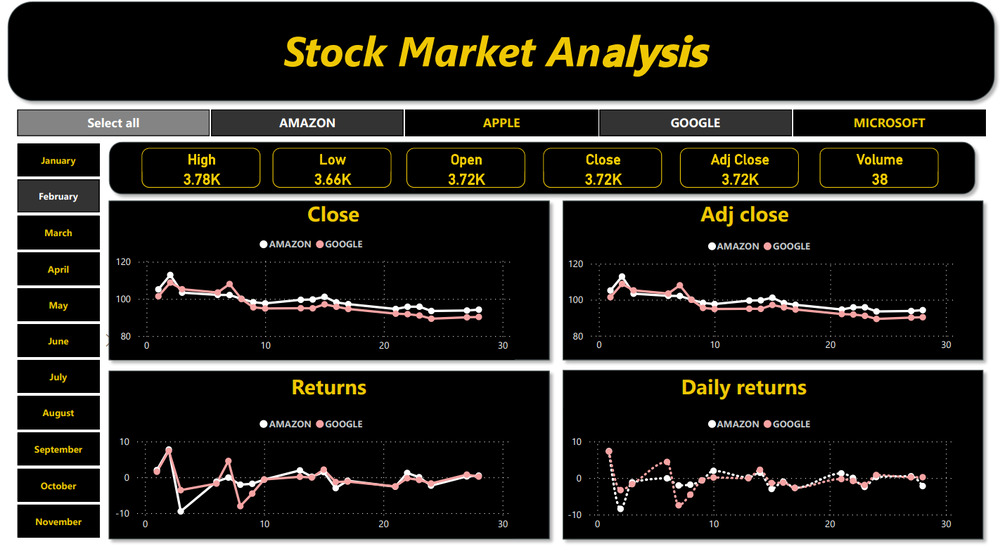

Layout of this report page (visuals, bound fields, positions):
{"tool":"powerbi","page":{"name":"Page 2","canvas":[1280,720],"ordinal":0},"visuals":[{"type":"shape","box":[0,0,1280,145],"z":0},{"type":"slicer","fields":{"Values":["Table1.company_name"]},"box":[0,145,1279,37.5],"z":1000},{"type":"slicer","fields":{"Values":["Table1.Date.Variation.Date Hierarchy.Month"]},"box":[0,189,145,508],"z":2000},{"type":"shape","box":[128.2,254.9,581.8,221.8],"z":3000},{"type":"textbox","box":[171,28.9,921.1,105.4],"z":4000},{"type":"lineChart","fields":{"Y":["Sum(Table1 (2).Close)"],"Series":["Table1 (2).company_name"],"Category":["Table1 (2).Date.Variation.Date Hierarchy.Day"]},"box":[141.1,299.5,515.5,167],"z":5000},{"type":"textbox","box":[270,256,311,46.1],"z":6000},{"type":"shape","box":[709.9,254.9,555.8,221.8],"z":7000},{"type":"textbox","box":[819.4,256,273,46.1],"z":8000},{"type":"shape","box":[709.9,470.9,555.8,234.7],"z":9000},{"type":"textbox","box":[819.4,477,256.3,46.1],"z":10000},{"type":"lineChart","fields":{"Y":["Sum(Table1 (2).Daily Return)"],"Series":["Table1 (2).company_name"],"Category":["Table1 (2).Date.Variation.Date Hierarchy.Day"]},"box":[720,529.9,504,165.6],"z":11000},{"type":"lineChart","fields":{"Y":["Sum(Table1 (2).Adj Close)"],"Series":["Table1 (2).company_name"],"Category":["Table1 (2).Date.Variation.Date Hierarchy.Day"]},"box":[720,302.4,504,164.2],"z":12000},{"type":"shape","box":[130,180,1125,84],"z":13000},{"type":"card","title":"High","fields":{"Values":["Sum(Table1 (2).High)"]},"box":[180,196,152,51],"z":14000},{"type":"shape","box":[128.2,472.3,581.8,233.3],"z":15000},{"type":"textbox","box":[270.7,477,296.6,46.1],"z":16000},{"type":"lineChart","fields":{"Y":["Sum(Table1 (2).returns)"],"Series":["Table1 (2).company_name"],"Category":["Table1 (2).Date.Variation.Date Hierarchy.Day"]},"box":[141.1,529.9,515.5,165.6],"z":17000},{"type":"card","title":"Low","fields":{"Values":["Sum(Table1 (2).Low)"]},"box":[347,196,152,51],"z":18000},{"type":"card","title":"Open","fields":{"Values":["Sum(Table1 (2).Open)"]},"box":[518.4,196,152,51],"z":19000},{"type":"card","title":"Close","fields":{"Values":["Sum(Table1 (2).Close)"]},"box":[694.1,196,152,51],"z":20000},{"type":"card","title":"Adj Close","fields":{"Values":["Sum(Table1 (2).Adj Close)"]},"box":[868.3,196,152,51],"z":21000},{"type":"card","title":"Volume","fields":{"Values":["CountNonNull(Table1 (2).Volume)"]},"box":[1046.9,196,152,51],"z":22000}]}

Visuals, with their boxes in screenshot pixels (x1, y1, x2, y2), scaled from the page's 1280x720 canvas onto the 1000x556 screenshot:
shape: select_region(0, 0, 999, 112)
slicer - Table1.company_name: select_region(0, 112, 999, 141)
slicer - Table1.Date.Variation.Date Hierarchy.Month: select_region(0, 146, 113, 538)
shape: select_region(100, 197, 555, 368)
textbox: select_region(134, 22, 853, 104)
lineChart - Sum(Table1 (2).Close) x Table1 (2).company_name: select_region(110, 231, 513, 360)
textbox: select_region(211, 198, 454, 233)
shape: select_region(555, 197, 989, 368)
textbox: select_region(640, 198, 853, 233)
shape: select_region(555, 364, 989, 545)
textbox: select_region(640, 368, 840, 404)
lineChart - Sum(Table1 (2).Daily Return) x Table1 (2).company_name: select_region(562, 409, 956, 537)
lineChart - Sum(Table1 (2).Adj Close) x Table1 (2).company_name: select_region(562, 234, 956, 360)
shape: select_region(102, 139, 980, 204)
"High" card: select_region(141, 151, 259, 191)
shape: select_region(100, 365, 555, 545)
textbox: select_region(211, 368, 443, 404)
lineChart - Sum(Table1 (2).returns) x Table1 (2).company_name: select_region(110, 409, 513, 537)
"Low" card: select_region(271, 151, 390, 191)
"Open" card: select_region(405, 151, 524, 191)
"Close" card: select_region(542, 151, 661, 191)
"Adj Close" card: select_region(678, 151, 797, 191)
"Volume" card: select_region(818, 151, 937, 191)
